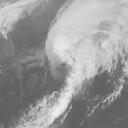cyclone: (46, 24, 109, 79)
